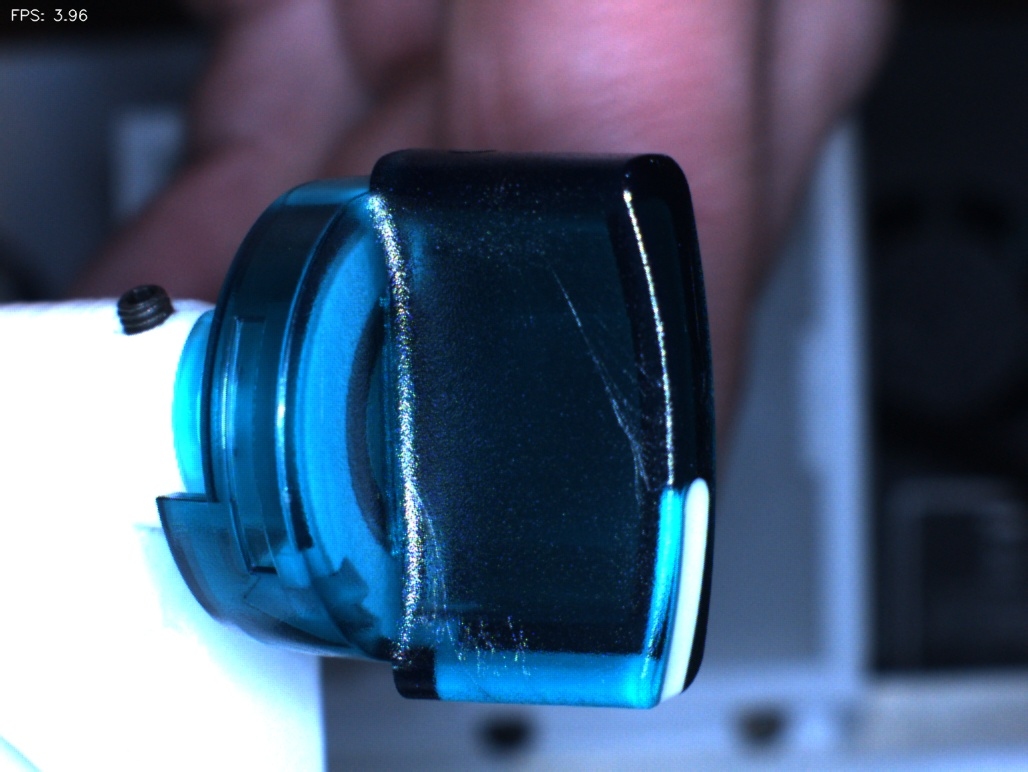Givrage: (442, 594, 536, 685)
